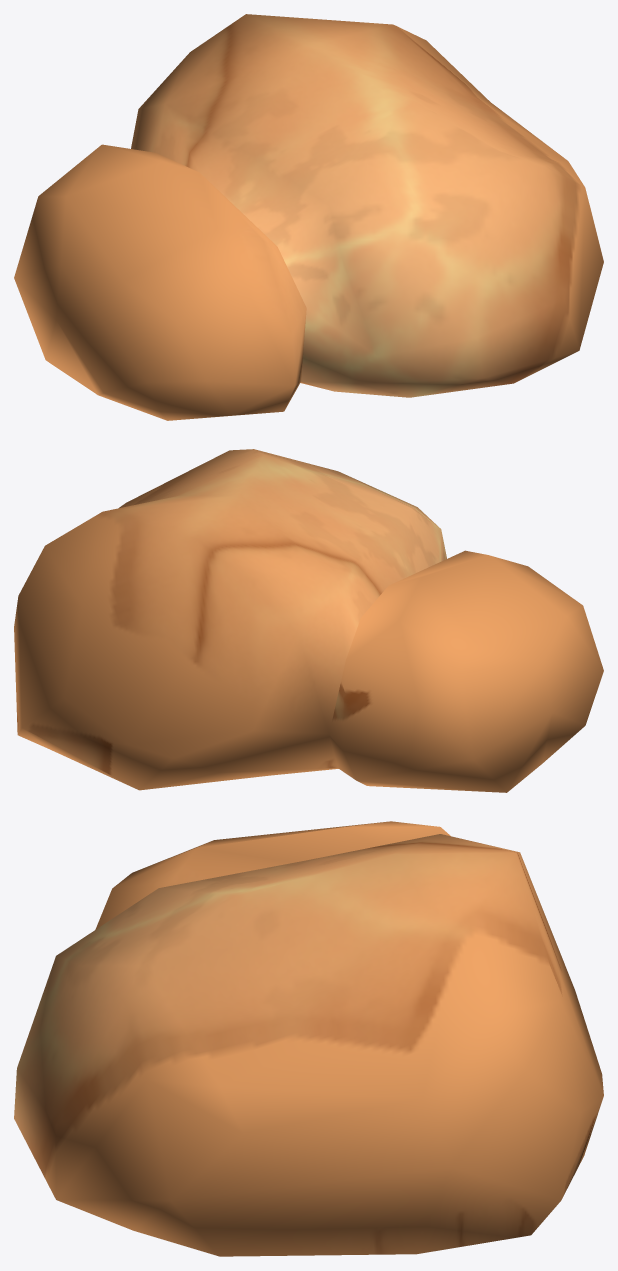
The model's file is Subrock_5.fbx.
The picture shows the model from 3 angles, top to bottom: view 1: azimuth 30°, elevation 25°; view 2: azimuth 150°, elevation 25°; view 3: azimuth 270°, elevation 25°; orthographic projection. The views are drawn at different scales.
Parts seen in each view (by area): view 1: Rock_5_LOD0; view 2: Rock_5_LOD0; view 3: Rock_5_LOD0.
Part boxes in pixels (x1,y1,x2,y2): Rock_5_LOD0: (14, 14, 603, 420); Rock_5_LOD0: (14, 449, 603, 792); Rock_5_LOD0: (14, 821, 603, 1256).
Size of what is drawn, in the model's own units: 60.85 by 30.15 by 53.78.
